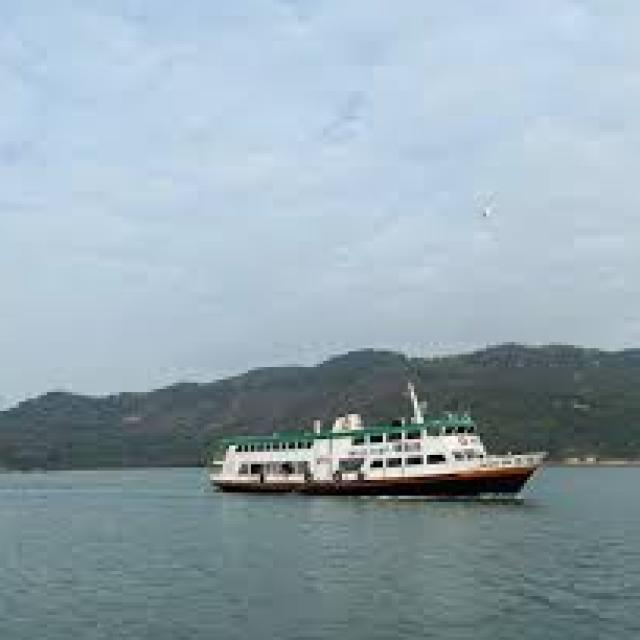houseboat: (204, 387, 550, 506)
